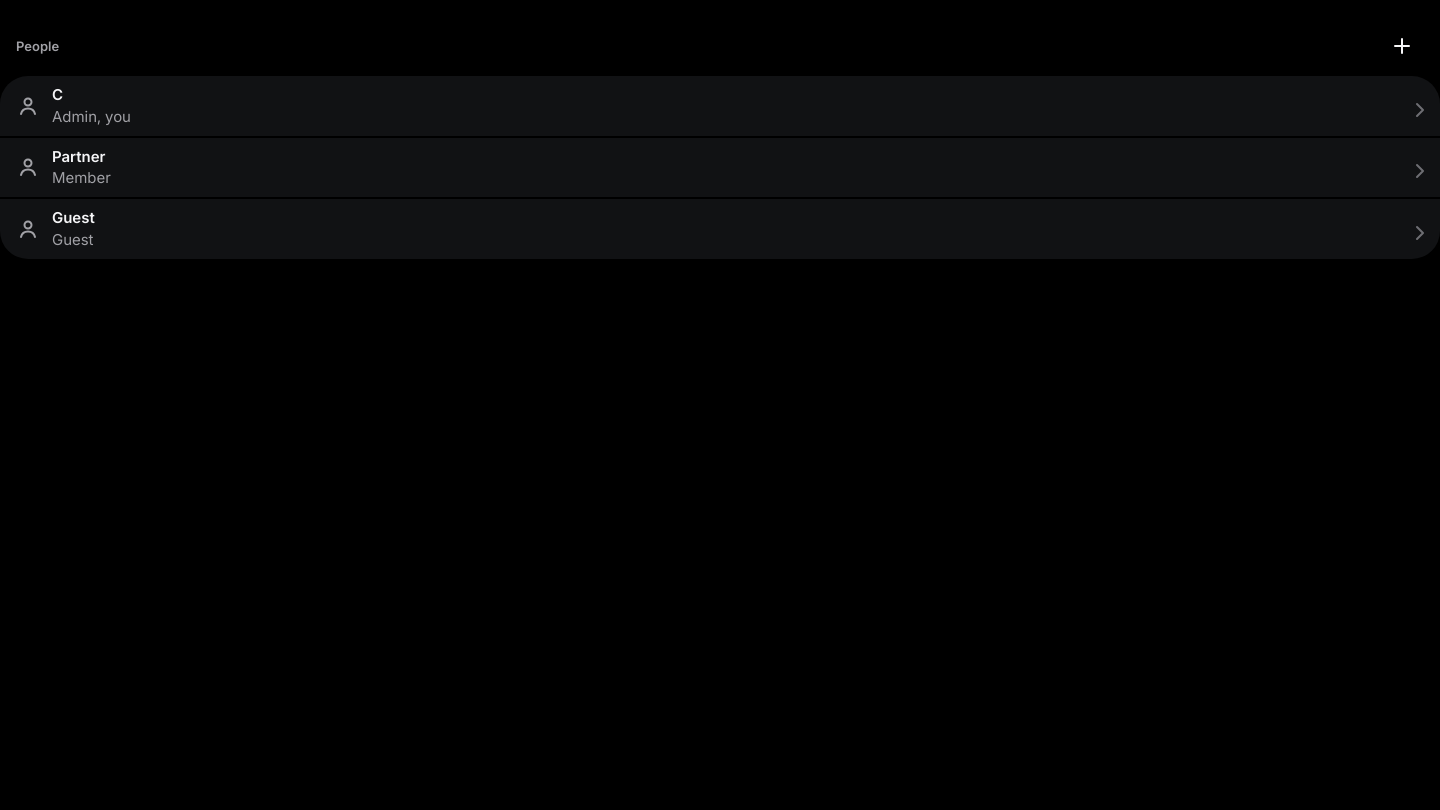
Test: Users: one change at a time › offers no Disable for the admin who is signed in
The image size is (1440, 810).
What coordinates should you click on to do the following:
click the button "C Admin, you"
I would click on:
 (91, 116)
Its box is [0, 76, 1439, 136].
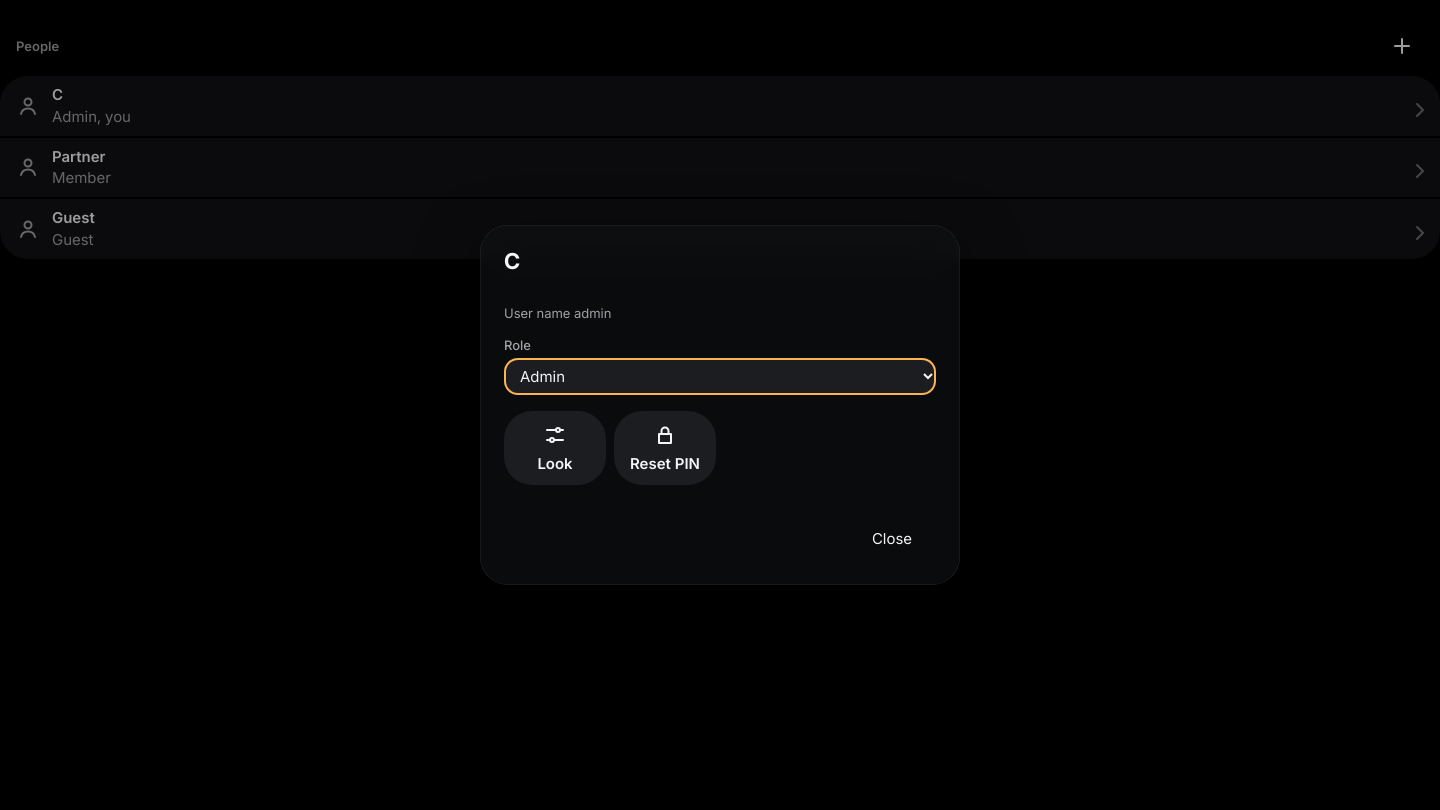
Now the button "Reset PIN" is shown, box [614, 411, 716, 485]
